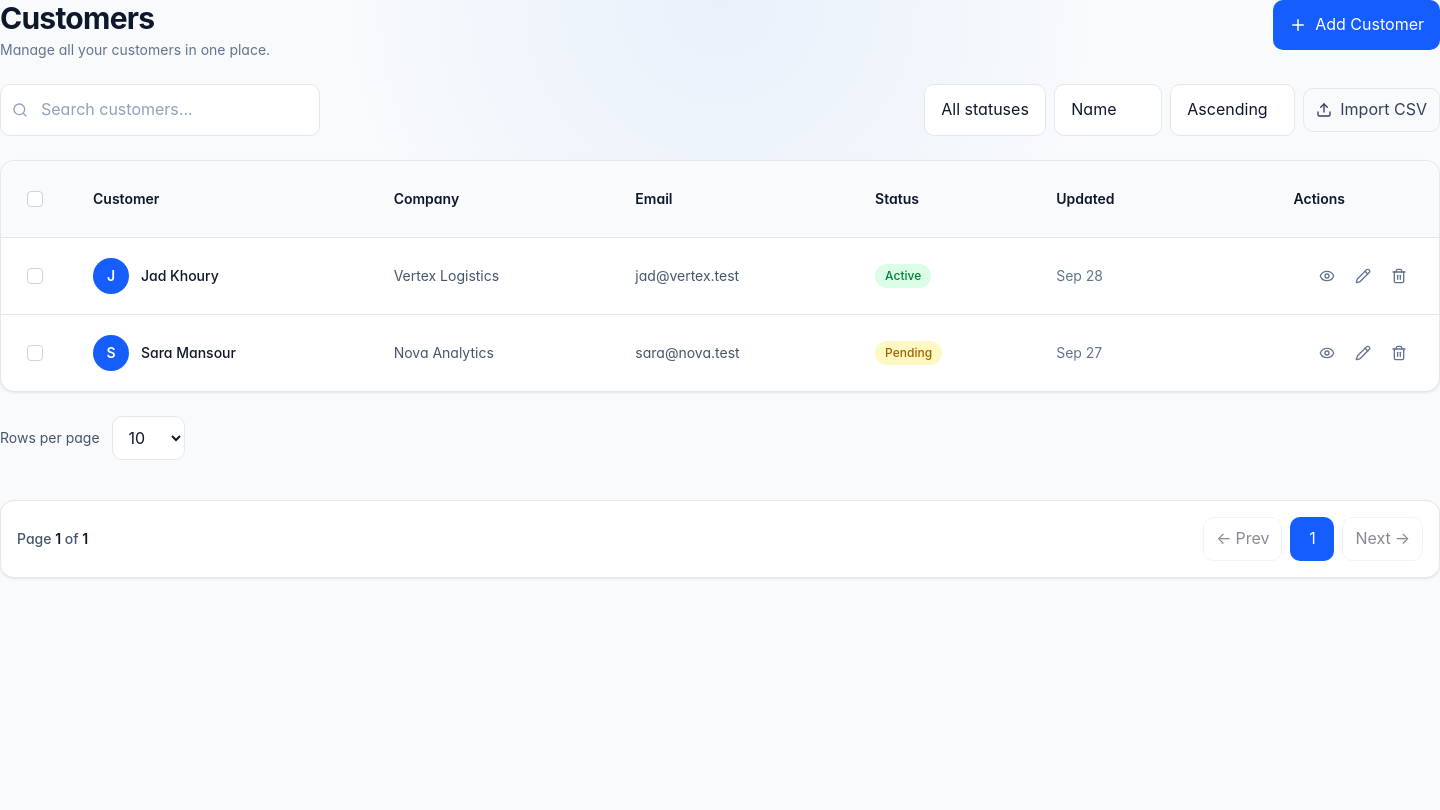
Test: Customers — edit › opens the modal prefilled with the row's values
Click the button named "edit jad khoury".
click(1363, 276)  # box top-left (1347, 260), bottom-right (1379, 292)
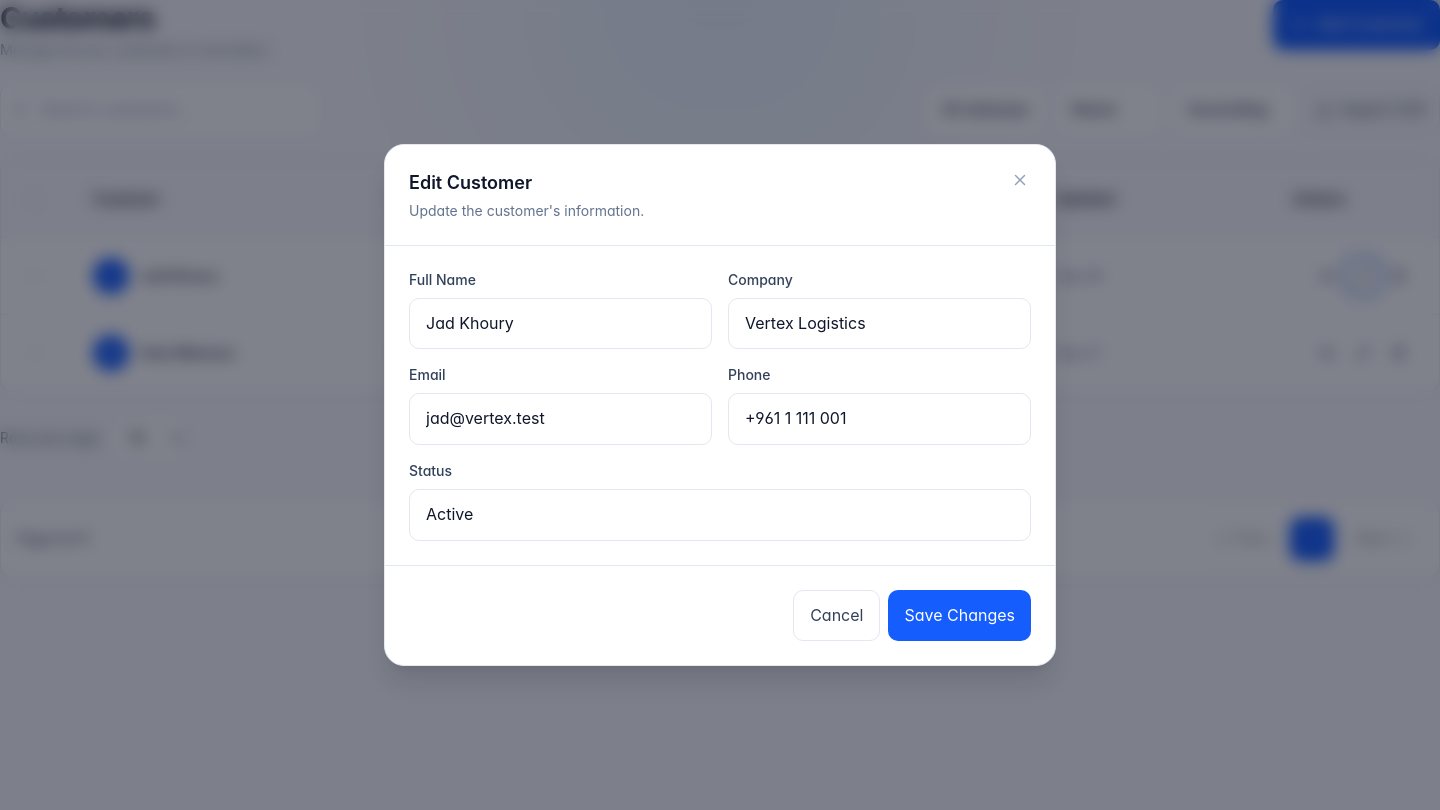
Result: the field labelled "Full Name" holds "Jad Khoury" at top-left (409, 298), bottom-right (712, 349)
Result: the field labelled "Email" holds "jad@vertex.test" at top-left (409, 393), bottom-right (712, 445)
